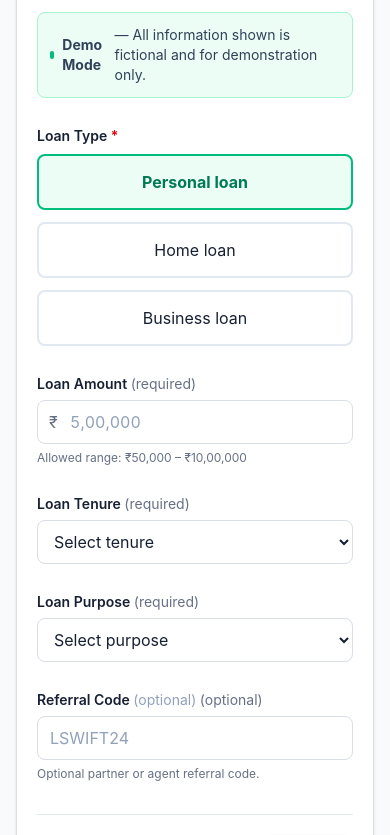
Scenario: Step 1 - loan type and amount › formats the amount in the Indian digit system
The width and height of the screenshot is (390, 835).
(page scrolled)
Type "1050000" into the field with id "loanAmount".
click(195, 422); type("1050000")  # box x1=37 y1=400 x2=353 y2=444
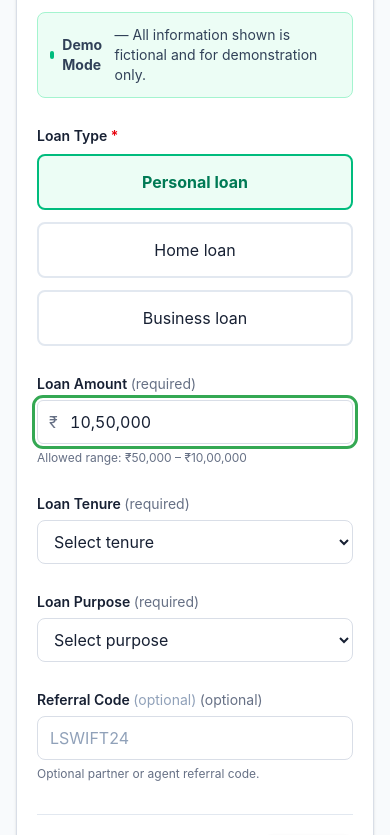
Expected: the field with id "loanAmount" holds "10,50,000", x1=37 y1=400 x2=353 y2=444
